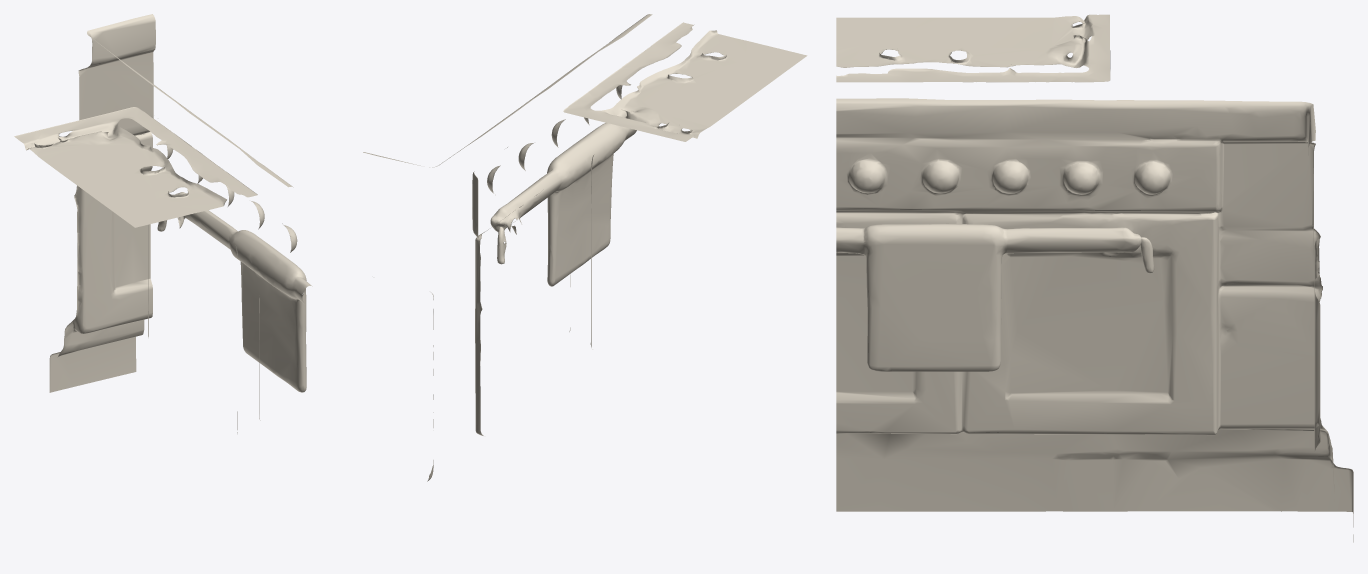
File: kitchen_range.glb
The picture shows the model from 3 angles, left to right: view 1: azimuth 30°, elevation 25°; view 2: azimuth 150°, elevation 25°; view 3: azimuth 270°, elevation 25°; orthographic projection. The views are drawn at different scales.
Bounding box in the file's own units: 0.1775 × 0.274 × 0.3064.
